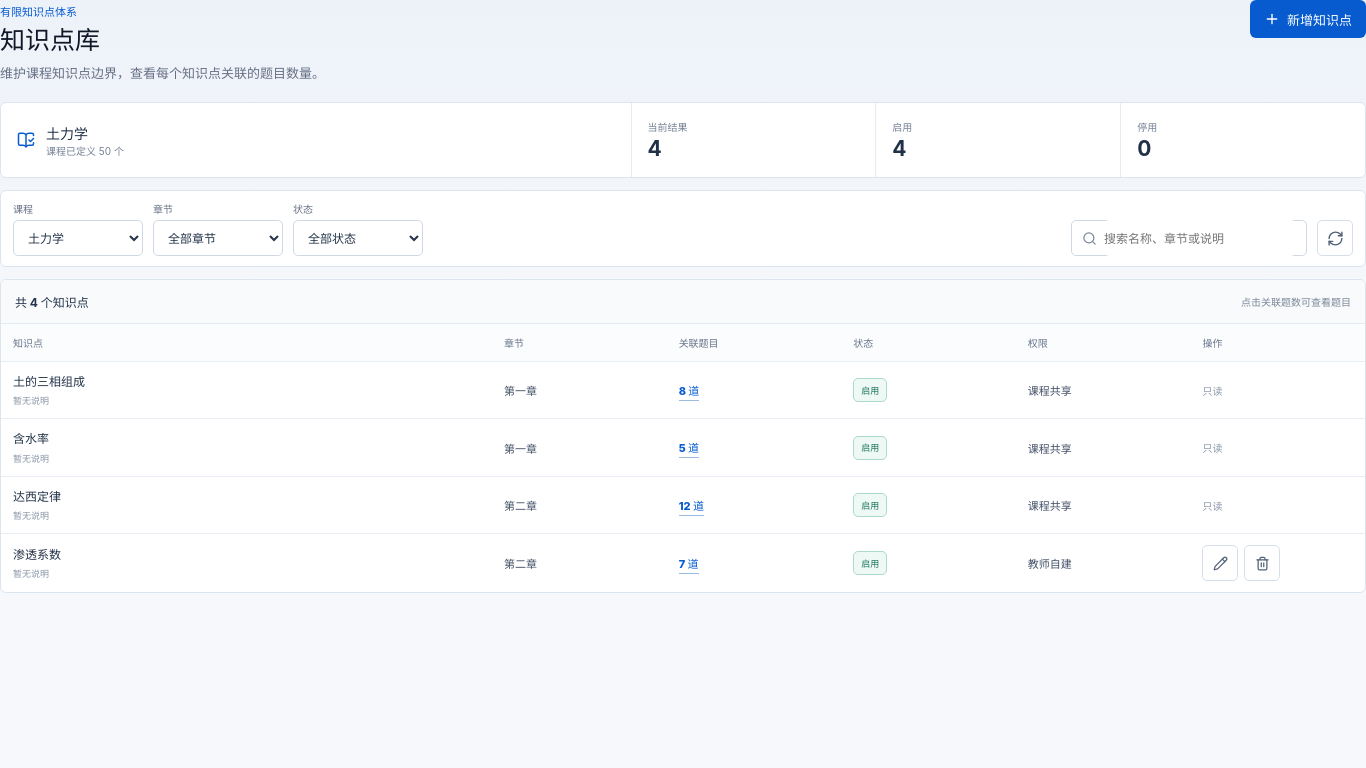
Test case: 知识点库显示有限总数并可查看关联题目
The image size is (1366, 768).
Expected: the text "共 4 个知识点" is shown, [15, 293, 89, 310]
Expected: the text "课程已定义 50 个" is shown, [46, 142, 124, 158]
Step 1. Click the button named "查看 12 道关联题" → click(691, 505), box [679, 494, 704, 516]
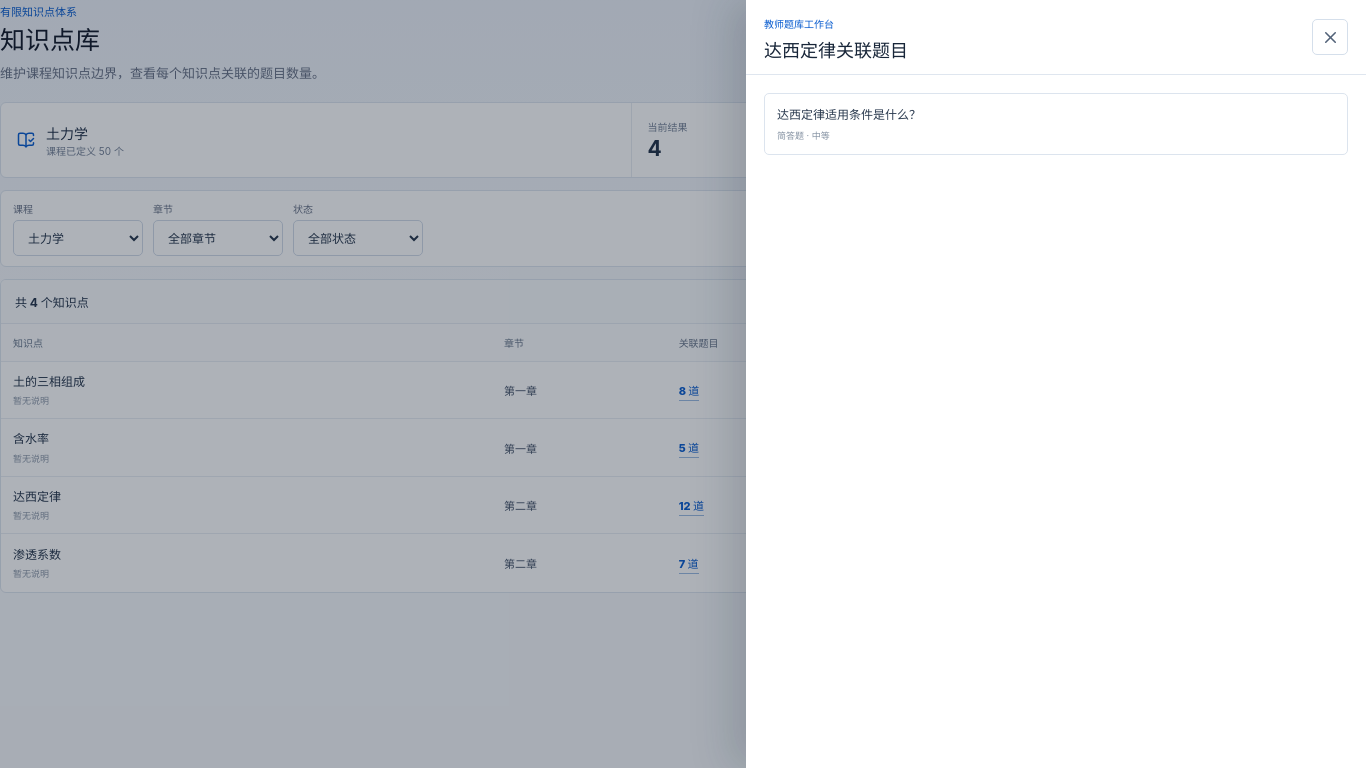
Expected: the dialog "达西定律关联题目" is shown, [746, 0, 1365, 767]
Expected: the text "达西定律适用条件是什么？" is shown, [777, 107, 921, 122]
